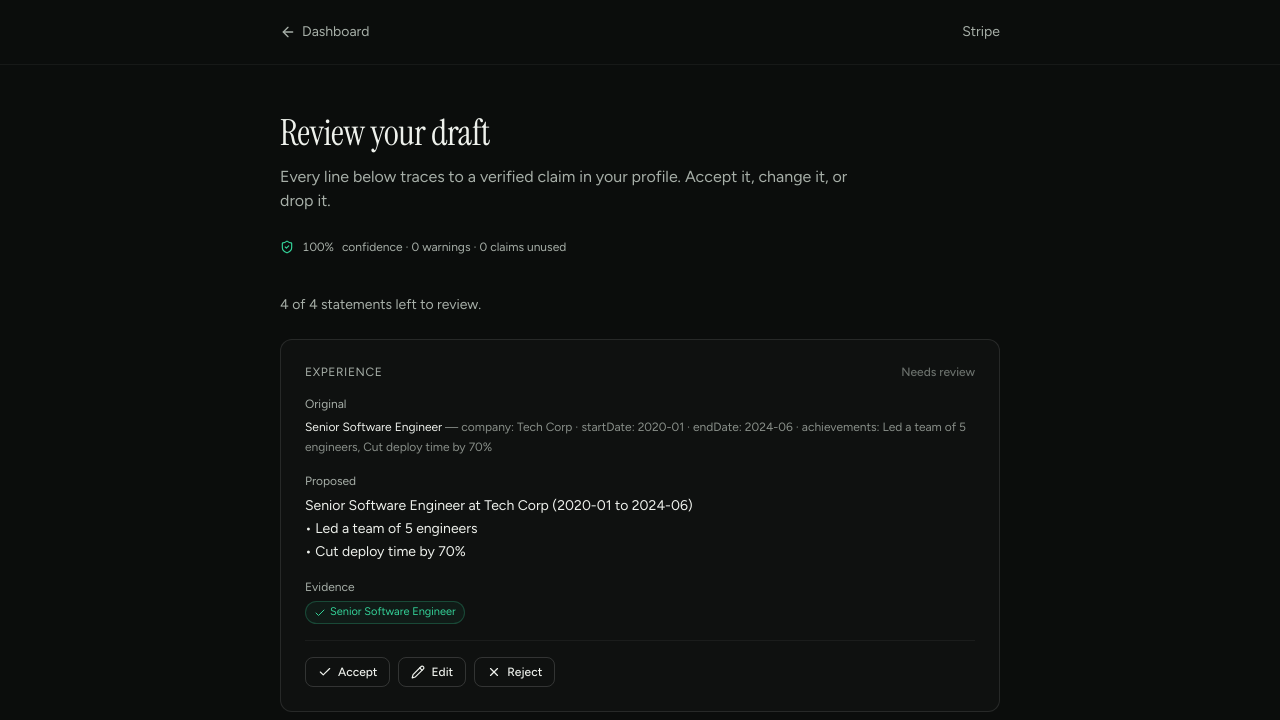
it: TailorPage › rejects a statement
What coordinates should you click on to do the following:
click the button with aria-label "Reject experience statement"
I would click on:
 (515, 672)
Its box is [474,657,555,687].
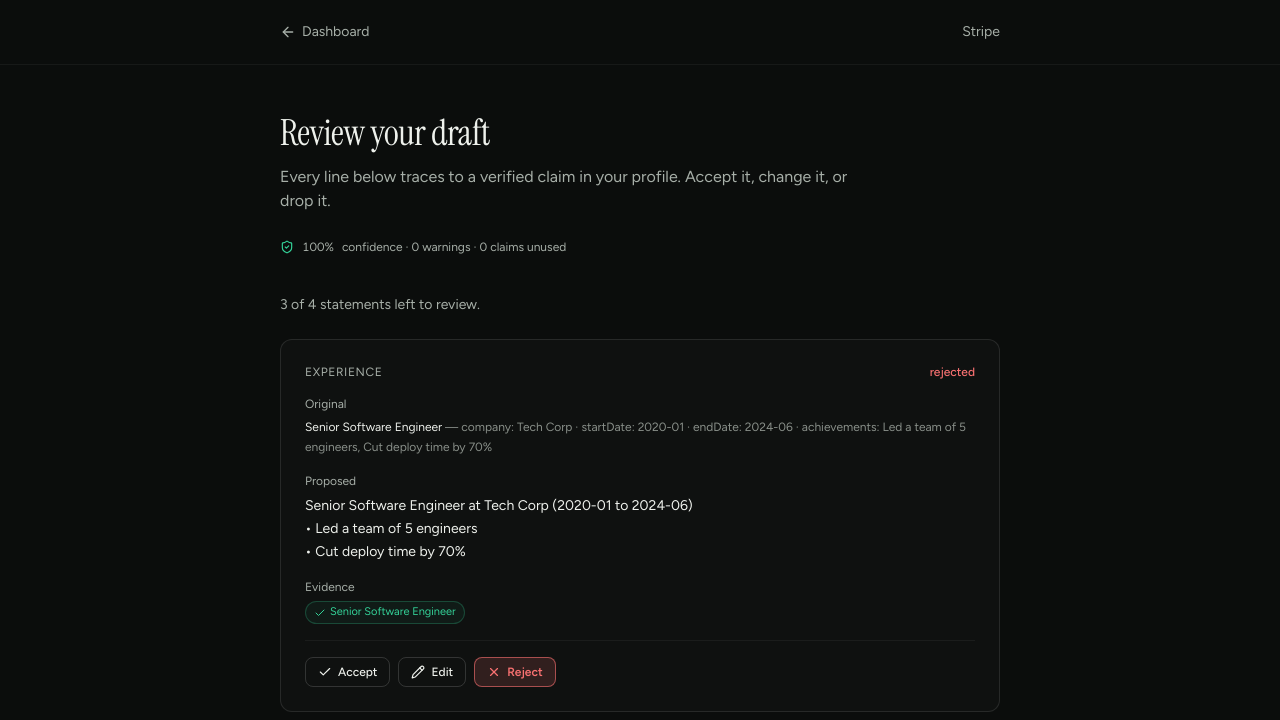
Result: the text "rejected" is shown at [930,364,975,380]
